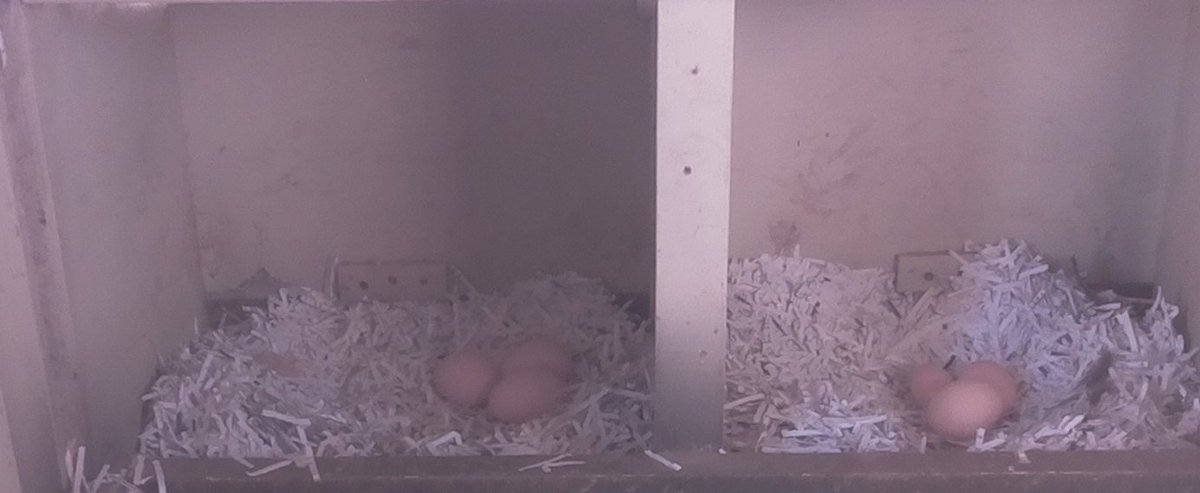egg: (482, 363, 577, 427), (922, 377, 1007, 445), (427, 349, 504, 412), (951, 357, 1029, 410), (497, 336, 584, 381), (902, 358, 954, 405)
